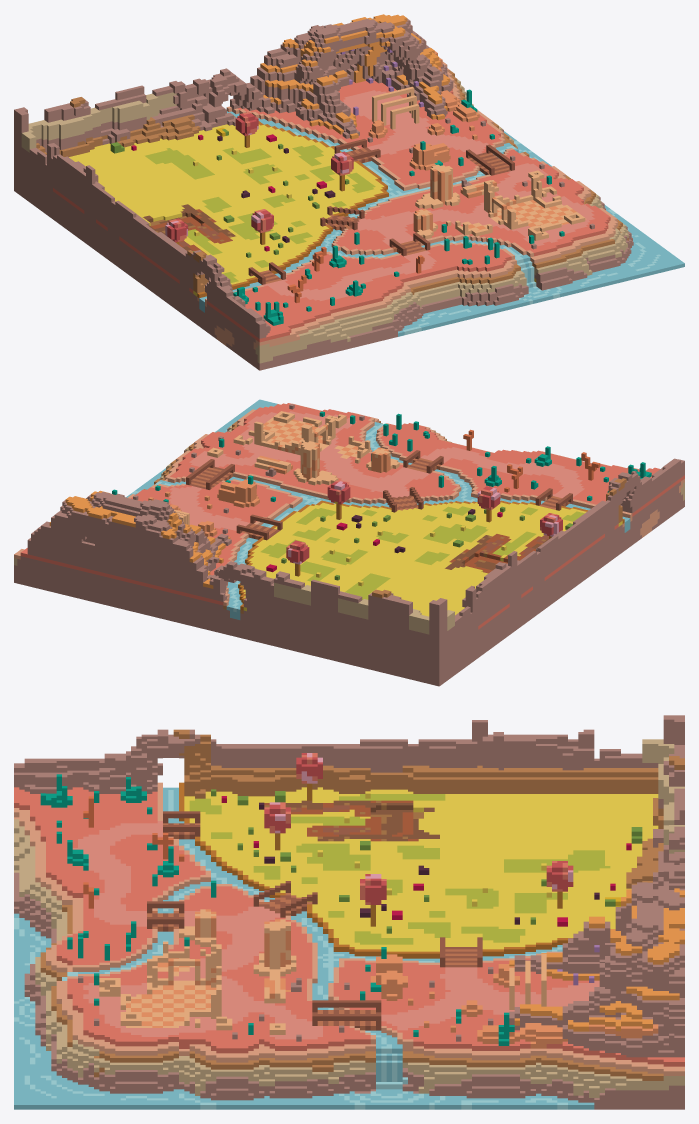
Rendered from mainland mk7.obj.
3 renders of one model, top to bottom at view 1: azimuth 30°, elevation 25°; view 2: azimuth 150°, elevation 25°; view 3: azimuth 270°, elevation 25°, orthographic. The views are drawn at different scales.
Size of the model in its own units: 126 by 28 by 126.
